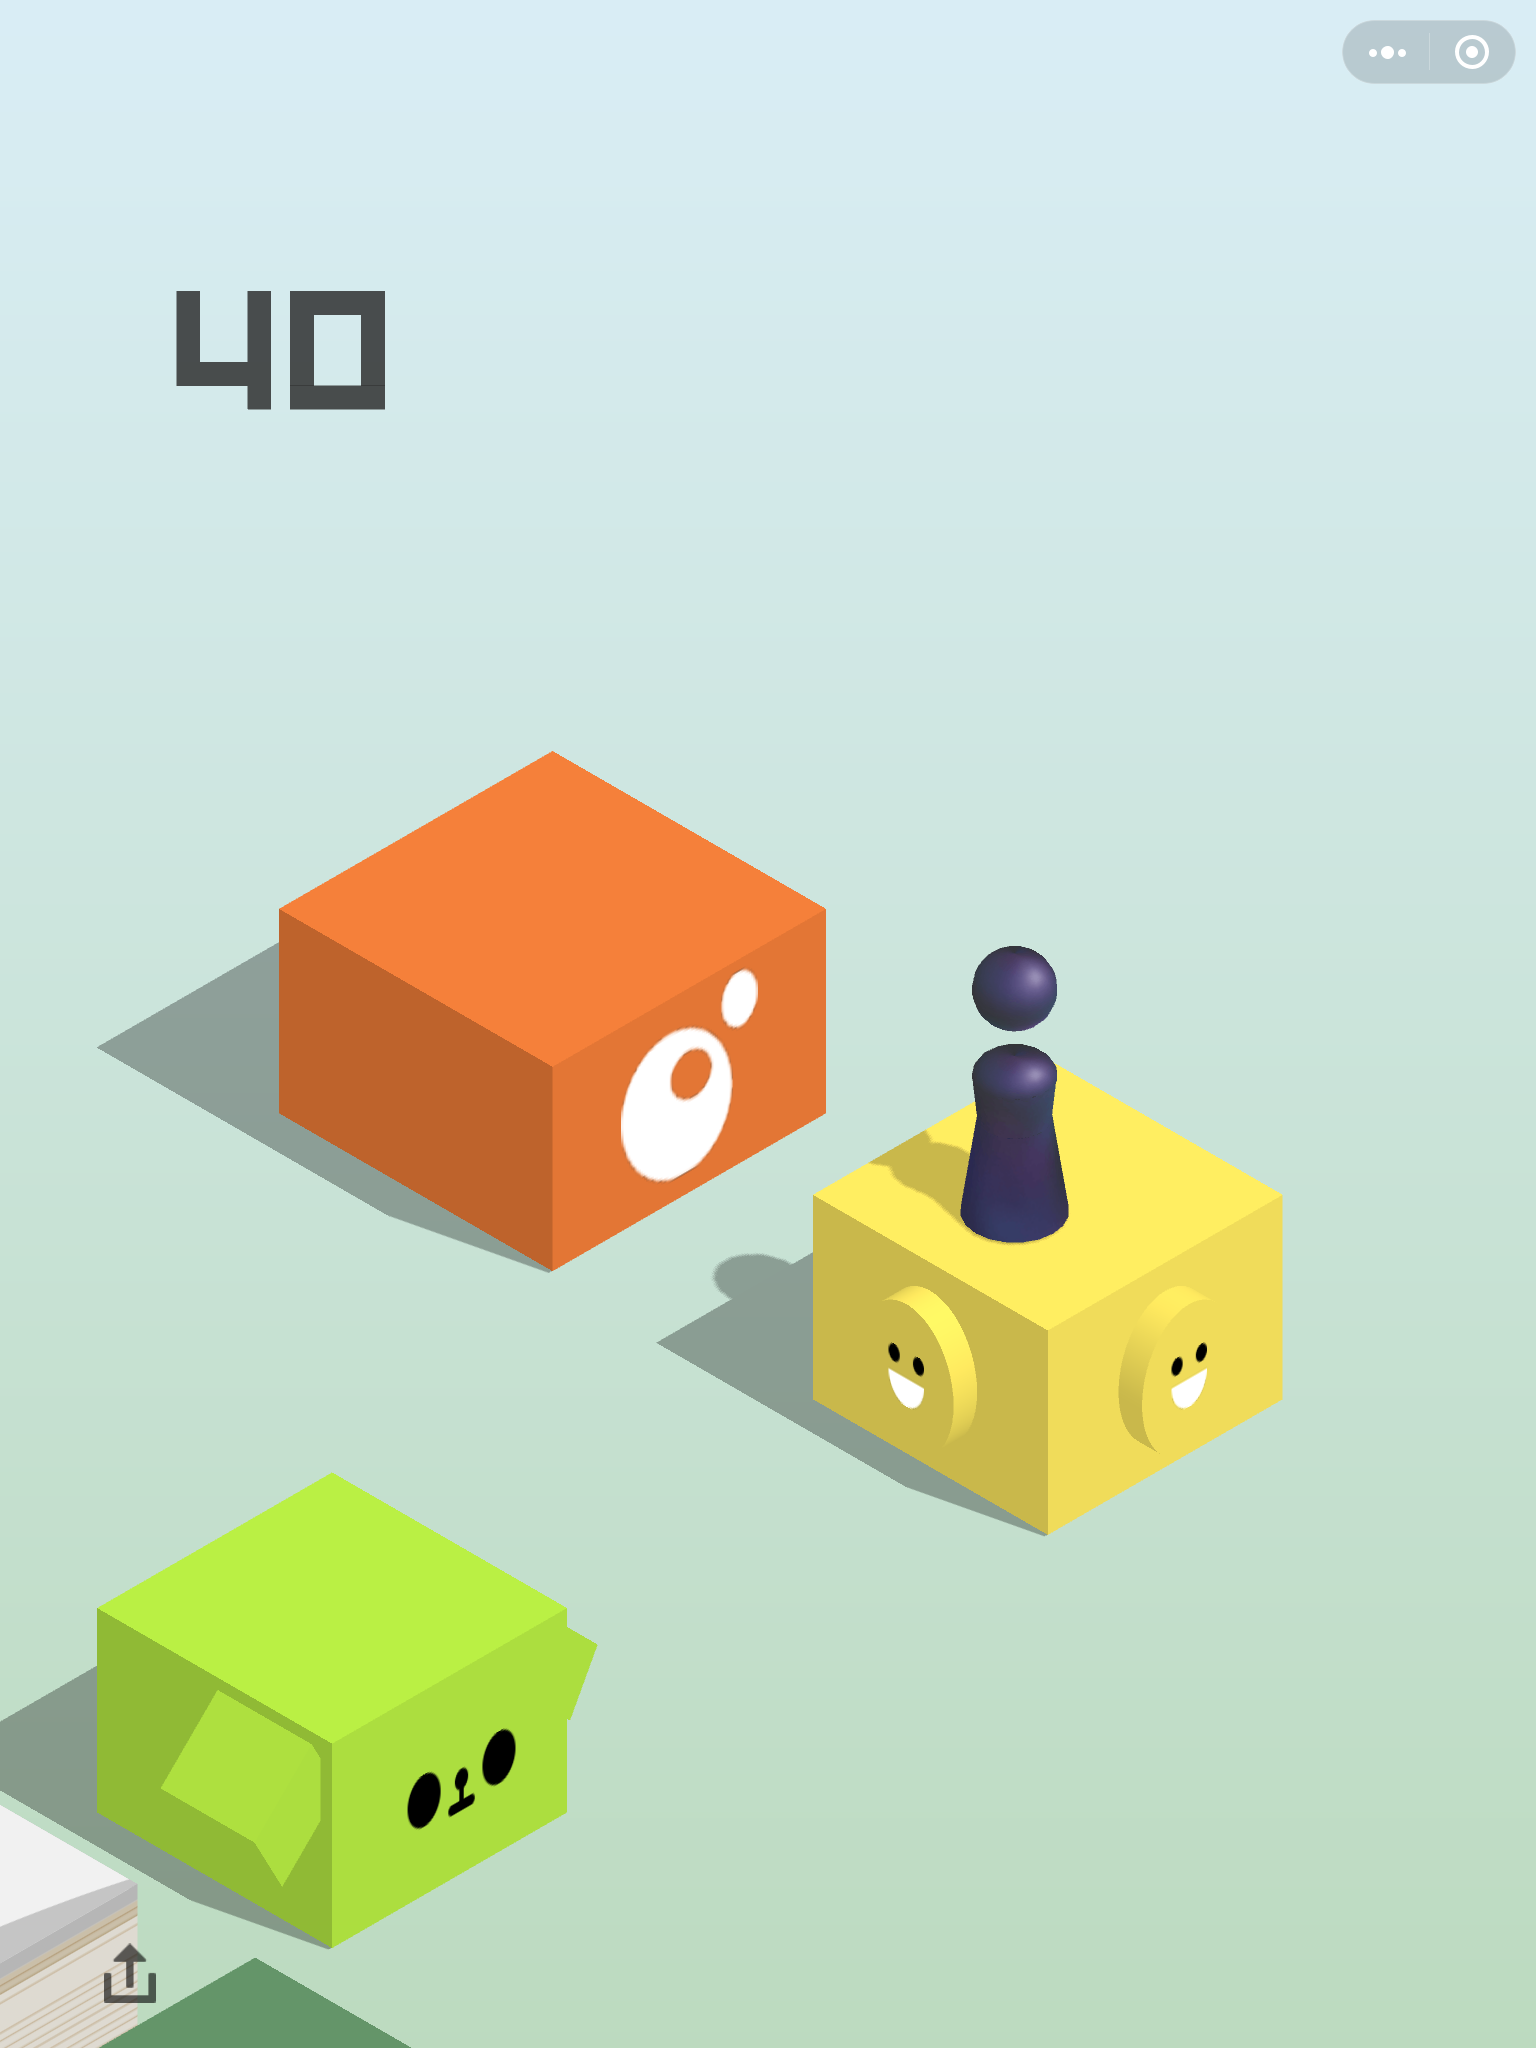f: (271, 748, 834, 1279), (87, 1464, 595, 1948), (803, 1055, 1292, 1542)
r: (957, 940, 1075, 1250)
